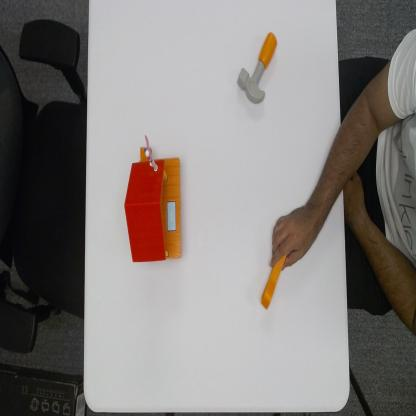Arm: (313, 124, 344, 227)
Hammer: (237, 30, 278, 106)
Hand: (269, 203, 316, 270)
House: (123, 134, 184, 265)
Screwdriver: (260, 250, 287, 308)
